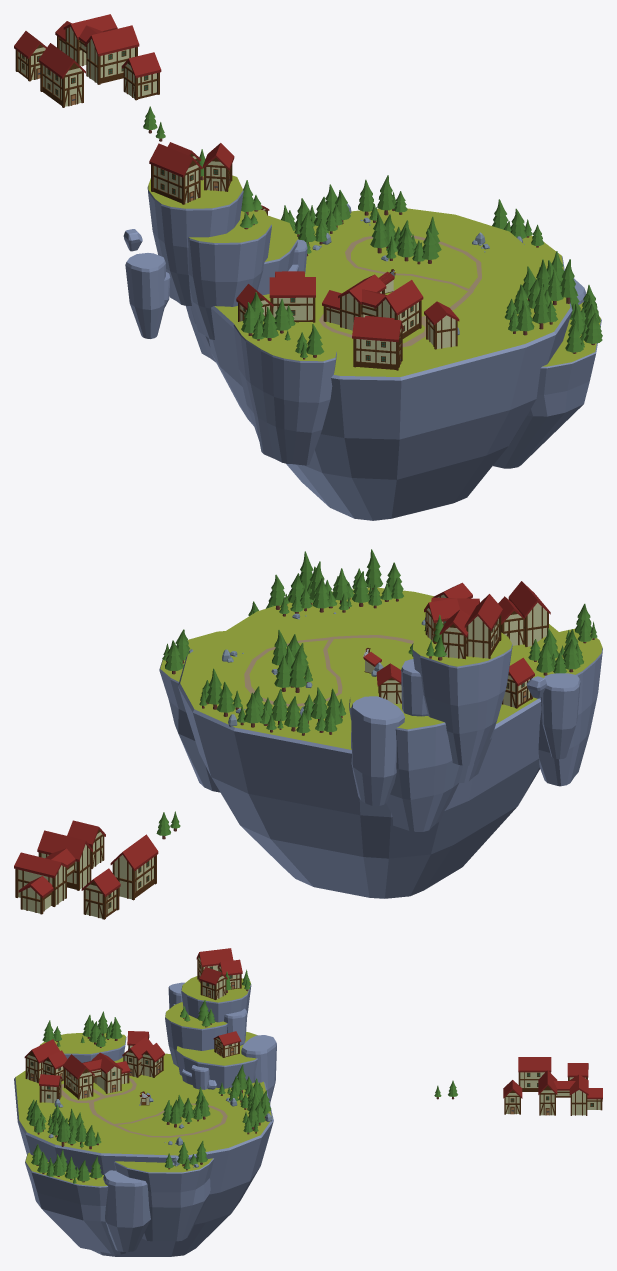
Rendered from _Methfessselstrasse.fbx.
3 renders of one model, top to bottom at view 1: azimuth 30°, elevation 25°; view 2: azimuth 150°, elevation 25°; view 3: azimuth 270°, elevation 25°, orthographic. The views are drawn at different scales.
Parts seen in each view (by area): view 1: _Terrain, background.001, background, foreground, House.003, Cylinder.018, Rock.009, House.005, window.008, window.012, Cylinder.045, House.001 (+5 smaller); view 2: _Terrain, background.001, background, Rock.009, Cylinder.018, foreground, House.005, window.012, Cylinder.045, Cube.002, window.008, window.013 (+4 smaller); view 3: _Terrain, foreground, background.001, background, House.003, Rock.009, Cylinder.018, House.005, House.001, Cylinder.045, _Methfesselstrasse, window.012 (+4 smaller).
Part boxes in pixels (x1=…): _Terrain: x1=208, y1=208, x2=572, y2=520; background.001: x1=123, y1=142, x2=307, y2=362; background: x1=233, y1=292, x2=336, y2=465; foreground: x1=492, y1=199, x2=602, y2=468; House.003: x1=322, y1=274, x2=423, y2=338; Cylinder.018: x1=281, y1=175, x2=407, y2=256; Rock.009: x1=504, y1=251, x2=577, y2=335; House.005: x1=352, y1=315, x2=403, y2=370; window.008: x1=84, y1=25, x2=139, y2=84; window.012: x1=38, y1=43, x2=85, y2=107; Cylinder.045: x1=370, y1=213, x2=441, y2=264; House.001: x1=269, y1=271, x2=315, y2=322; _Terrain: x1=178, y1=587, x2=558, y2=898; background.001: x1=349, y1=594, x2=580, y2=831; background: x1=522, y1=603, x2=602, y2=786; Rock.009: x1=268, y1=549, x2=403, y2=619; Cylinder.018: x1=199, y1=668, x2=346, y2=735; foreground: x1=159, y1=593, x2=290, y2=792; House.005: x1=498, y1=581, x2=550, y2=646; window.012: x1=110, y1=834, x2=158, y2=900; Cylinder.045: x1=271, y1=630, x2=312, y2=692; Cube.002: x1=14, y1=852, x2=68, y2=906; window.008: x1=37, y1=830, x2=92, y2=890; window.013: x1=81, y1=868, x2=120, y2=919; _Terrain: x1=14, y1=1052, x2=273, y2=1256; foreground: x1=25, y1=1141, x2=213, y2=1254; background.001: x1=165, y1=948, x2=276, y2=1103; background: x1=40, y1=1011, x2=126, y2=1062; House.003: x1=63, y1=1052, x2=130, y2=1099; Rock.009: x1=26, y1=1099, x2=101, y2=1149; Cylinder.018: x1=218, y1=1064, x2=272, y2=1134; House.005: x1=24, y1=1039, x2=67, y2=1083; House.001: x1=122, y1=1036, x2=164, y2=1077; Cylinder.045: x1=161, y1=1087, x2=210, y2=1128; _Methfesselstrasse: x1=61, y1=1078, x2=227, y2=1137; window.012: x1=518, y1=1057, x2=551, y2=1091.
Size of the model in its own units: 13162 by 10103 by 23404.
